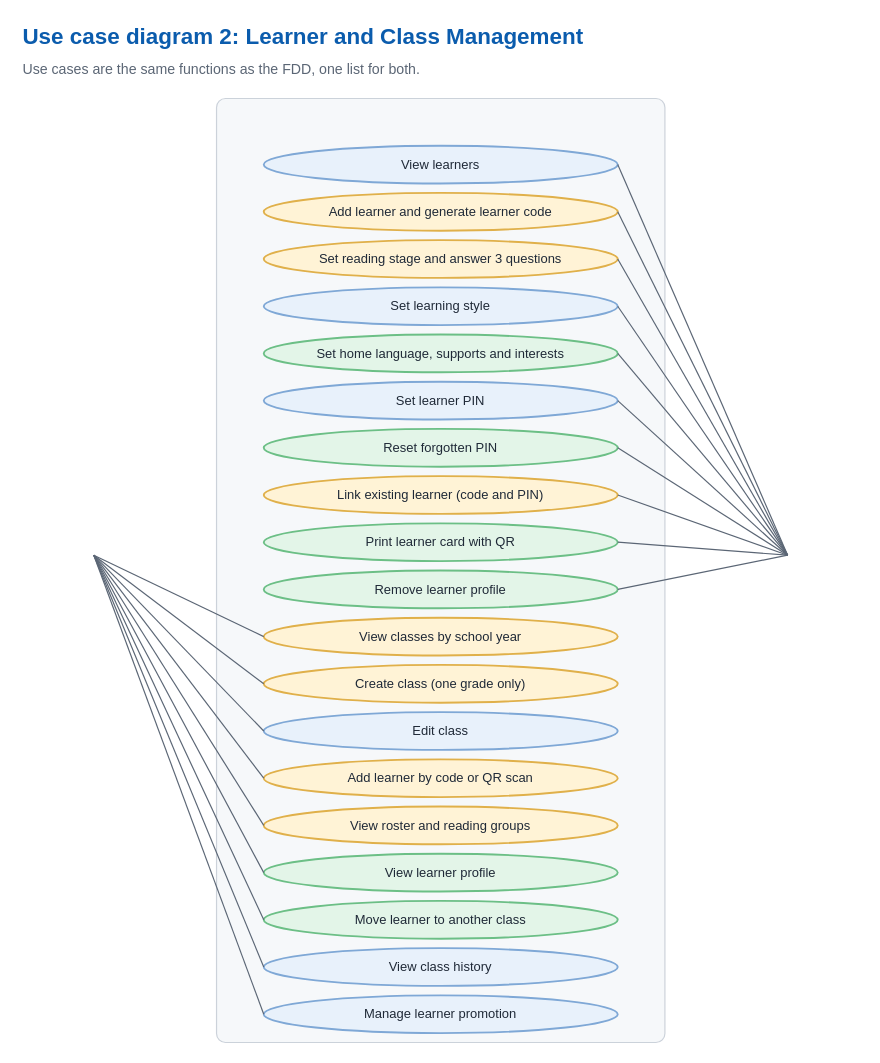
This 880x1063 diagram has some shape labels left out. Here are the shapes that lost their labels. From the top down, the box of each, then its label:
(26, 522, 122, 630): Teacher
(215, 97, 665, 1043): TaraBasa AI
(758, 522, 854, 630): Parent
